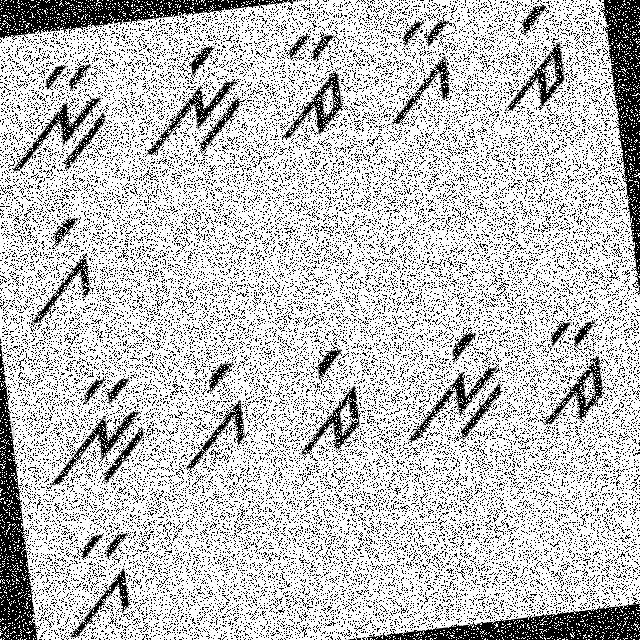gan: (362, 15, 473, 140), (46, 520, 145, 639)
gang: (162, 356, 264, 479), (6, 210, 104, 331)
ngan: (31, 364, 158, 498), (0, 55, 121, 184)
ngang: (388, 321, 522, 455), (132, 32, 248, 168)
tan: (265, 27, 363, 154), (526, 308, 618, 429)
tang: (279, 339, 379, 462), (482, 0, 575, 120)
